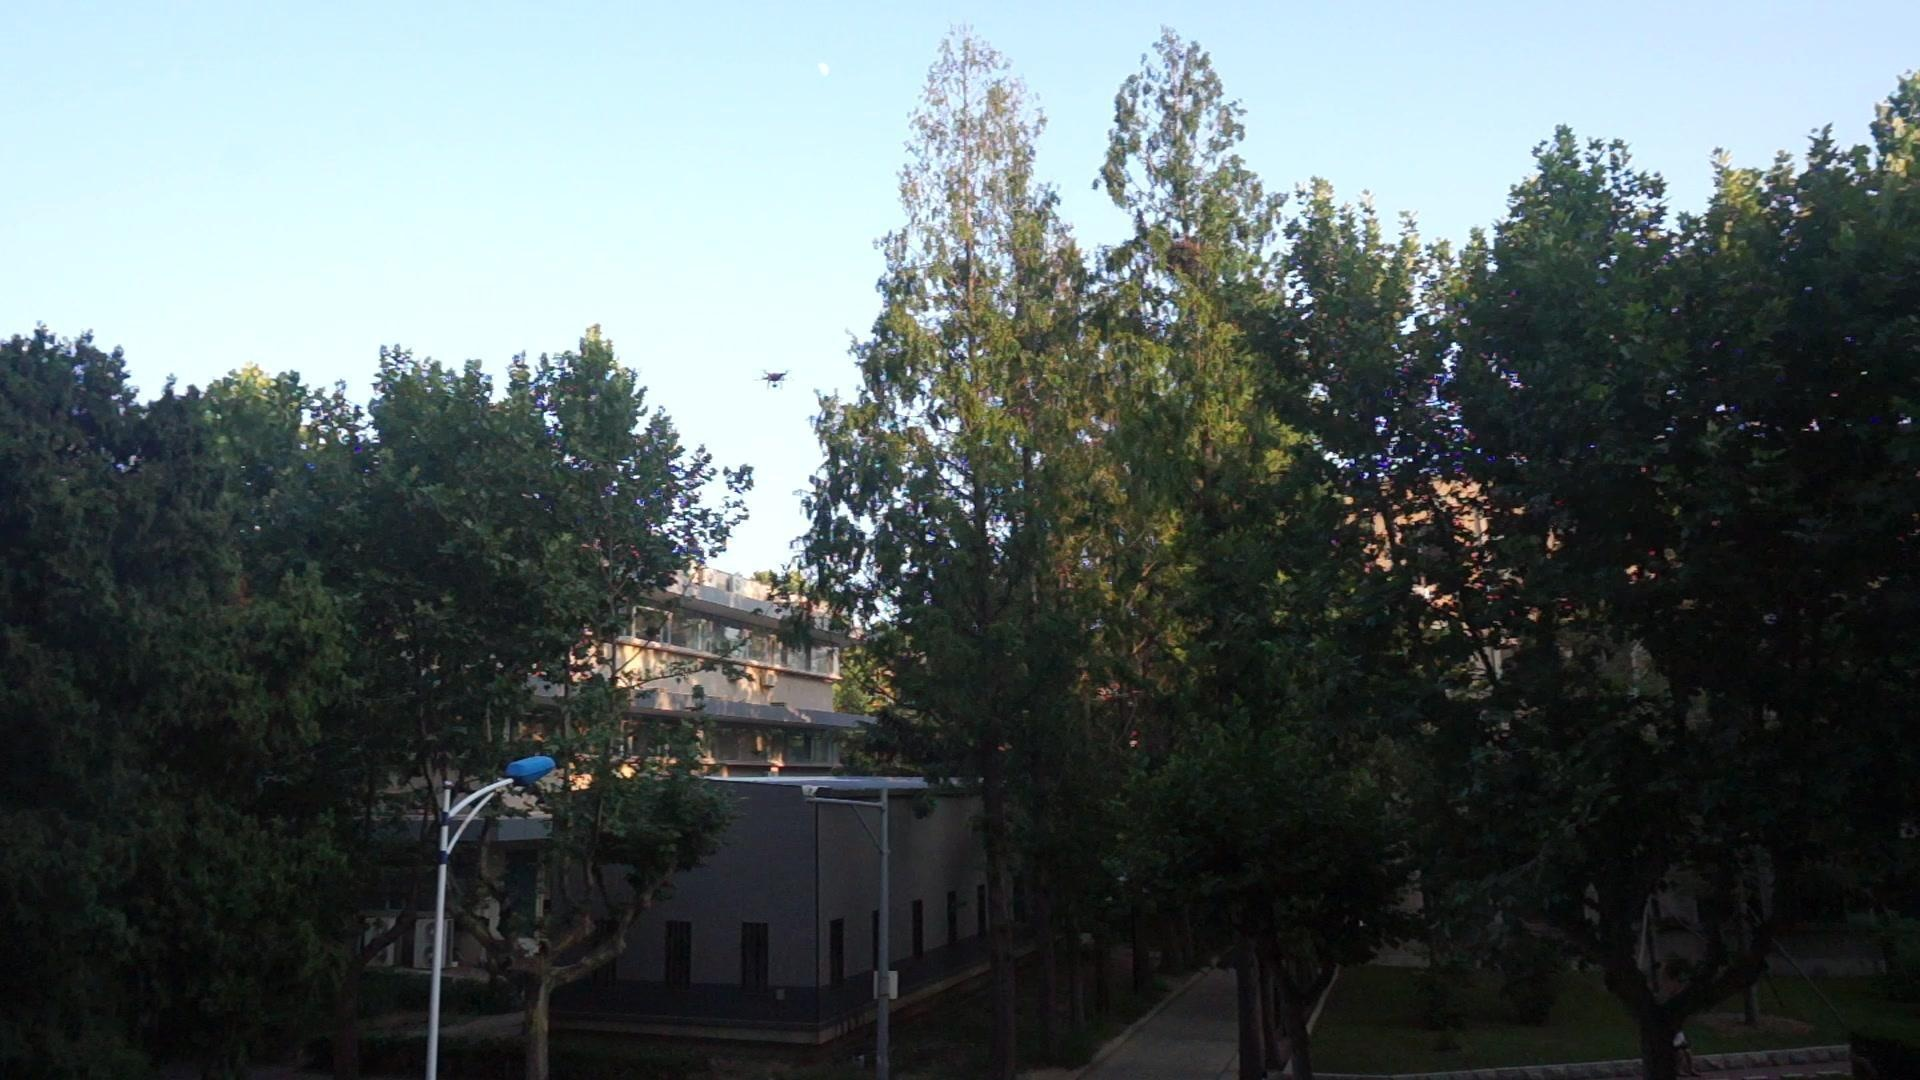UAV: (756, 371, 795, 392)
